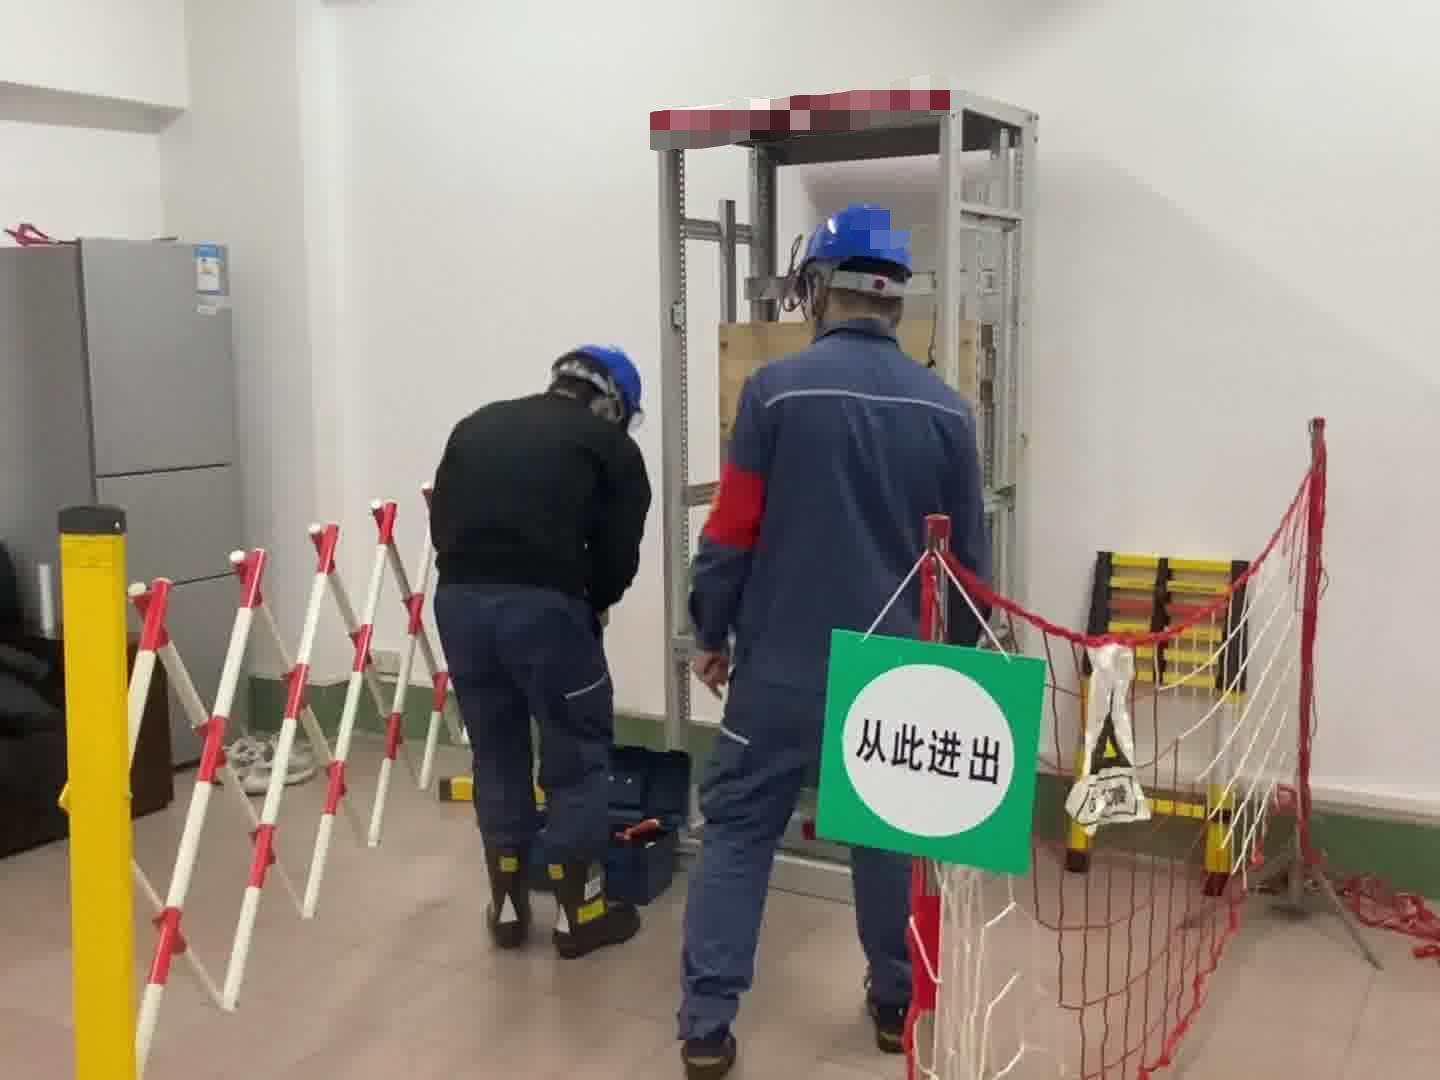halt: (797, 202, 924, 332), (548, 347, 646, 428)
inear: (799, 272, 839, 327)
